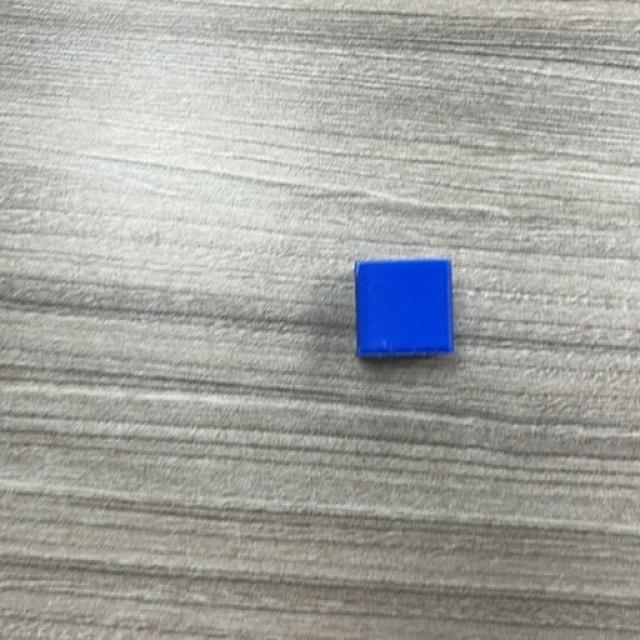Azul: (355, 258, 455, 360)
